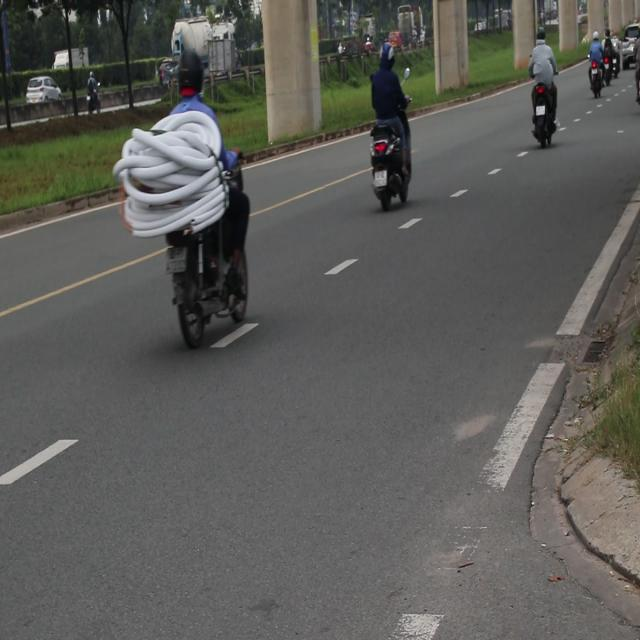car: (26, 78, 64, 104), (617, 24, 639, 68), (158, 60, 180, 88)
motorbike: (154, 206, 272, 343), (368, 121, 411, 210), (519, 74, 559, 157), (85, 74, 105, 113), (590, 58, 606, 98), (603, 60, 615, 86)
truck: (212, 25, 255, 99)
